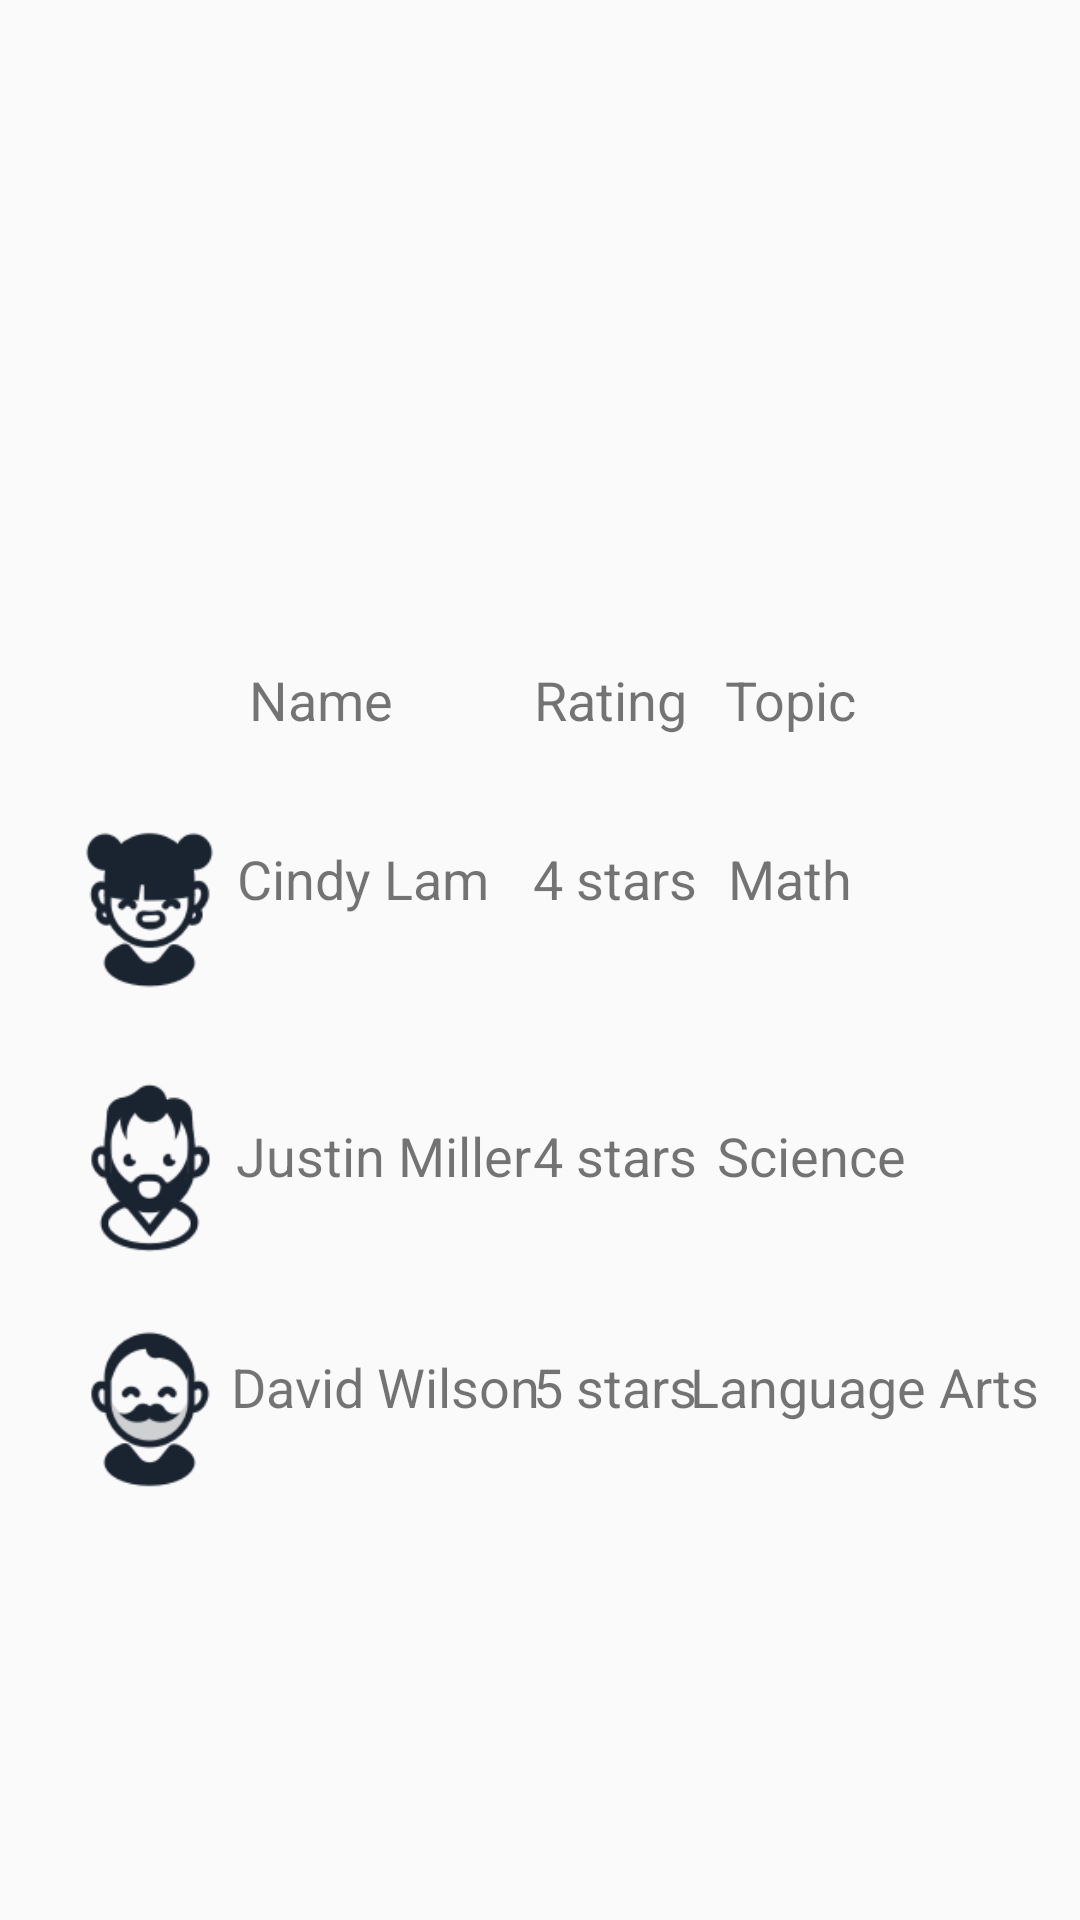

Screen size 1080x1920. Icon name, then its box in pixels as (x1, y1, x2, y2):
femalebuns: (86, 832, 213, 987)
malebeard: (91, 1084, 259, 1251)
malemoustache: (91, 1332, 259, 1487)
